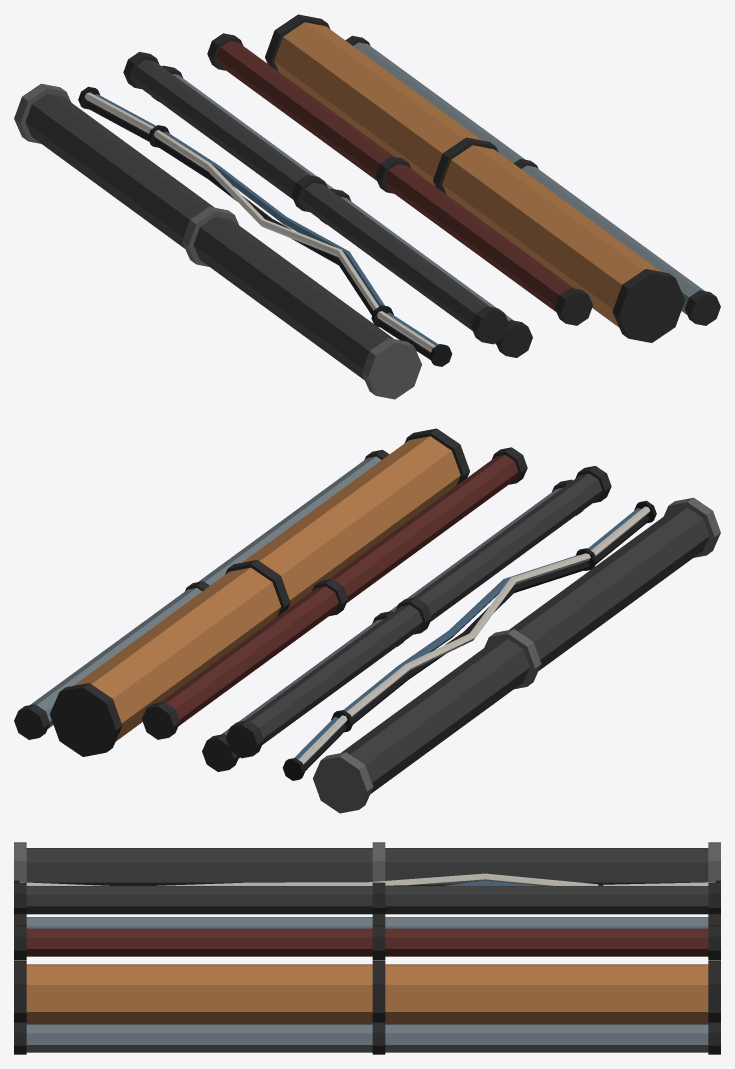
The model's file is SM_Bld_Ceiling_Pipes_Straight_01.fbx.
The picture shows the model from 3 angles, top to bottom: view 1: azimuth 30°, elevation 25°; view 2: azimuth 150°, elevation 25°; view 3: azimuth 270°, elevation 25°; orthographic projection.
Visible parts, largest first — view 1: SM_Bld_Ceiling_Pipes_Straight_01; view 2: SM_Bld_Ceiling_Pipes_Straight_01; view 3: SM_Bld_Ceiling_Pipes_Straight_01.
Part boxes in pixels (x1,y1,x2,y2): SM_Bld_Ceiling_Pipes_Straight_01: (14,14,720,399); SM_Bld_Ceiling_Pipes_Straight_01: (14,428,720,813); SM_Bld_Ceiling_Pipes_Straight_01: (14,842,720,1054).
Bounding box in the file's own units: 288 × 55.36 × 500.
Materials: 1 (1 with a texture image).
